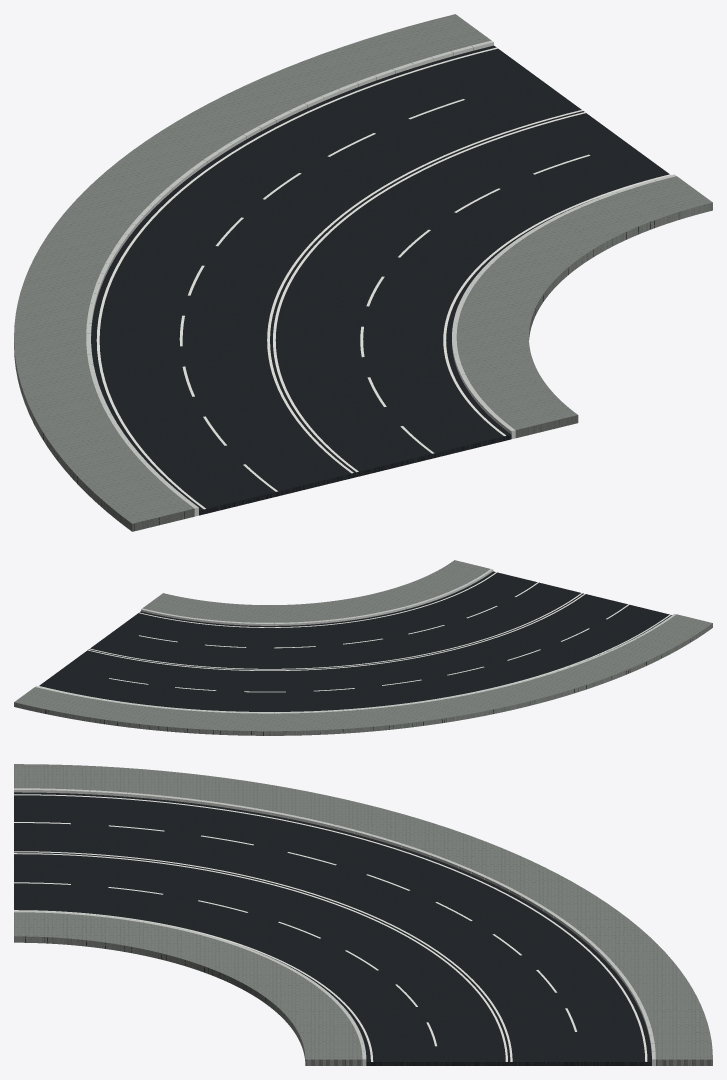
3 views of the same model, one above another, from view 1: azimuth 30°, elevation 25°; view 2: azimuth 150°, elevation 25°; view 3: azimuth 270°, elevation 25° (orthographic). The views are drawn at different scales.
Visible parts, largest first — view 1: Surface_Asphalt.002, Sidewalk_Paving.002, Markings_White.002, Curb_Concrete.002; view 2: Surface_Asphalt.002, Sidewalk_Paving.002, Markings_White.002, Curb_Concrete.002; view 3: Surface_Asphalt.002, Sidewalk_Paving.002, Markings_White.002, Curb_Concrete.002.
Boxes of the visible parts, box(x1,y1,x2,y2) form: Surface_Asphalt.002: box(91, 45, 669, 515); Sidewalk_Paving.002: box(14, 14, 712, 531); Markings_White.002: box(96, 47, 670, 509); Curb_Concrete.002: box(86, 40, 676, 516); Surface_Asphalt.002: box(39, 571, 671, 713); Sidewalk_Paving.002: box(14, 560, 712, 735); Markings_White.002: box(38, 572, 670, 712); Curb_Concrete.002: box(35, 569, 675, 713); Surface_Asphalt.002: box(14, 792, 651, 1065); Sidewalk_Paving.002: box(14, 764, 712, 1065); Markings_White.002: box(14, 794, 647, 1061); Curb_Concrete.002: box(14, 788, 655, 1065).
Bounding box in the file's own units: 36.7 × 0.37 × 36.7.
Materials: 4 (2 with a texture image).
